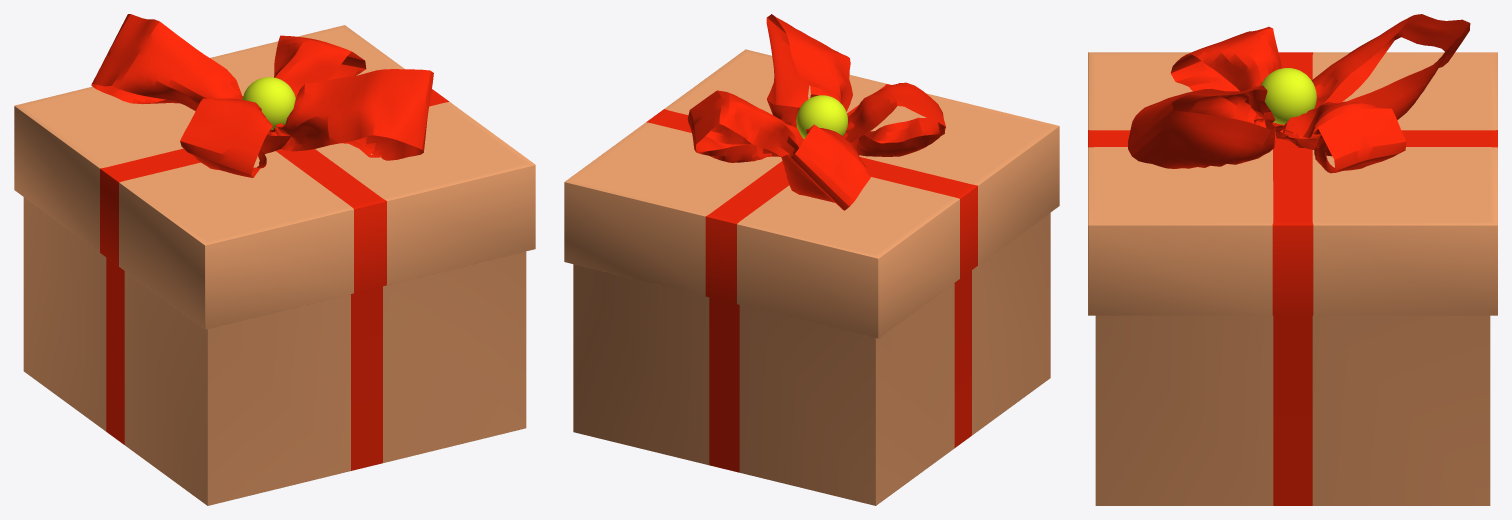
File: kdo.fbx
3 views of the same model, side by side, from view 1: azimuth 30°, elevation 25°; view 2: azimuth 150°, elevation 25°; view 3: azimuth 270°, elevation 25° (orthographic). The views are drawn at different scales.
Visible parts, largest first — view 1: Christmas Ribbon Gift; view 2: Christmas Ribbon Gift; view 3: Christmas Ribbon Gift.
Part boxes in pixels (x1,y1,x2,y2): Christmas Ribbon Gift: [14, 14, 535, 505]; Christmas Ribbon Gift: [564, 14, 1059, 505]; Christmas Ribbon Gift: [1088, 14, 1497, 505].
Size of the model in its own units: 45.24 by 45.92 by 45.24.
